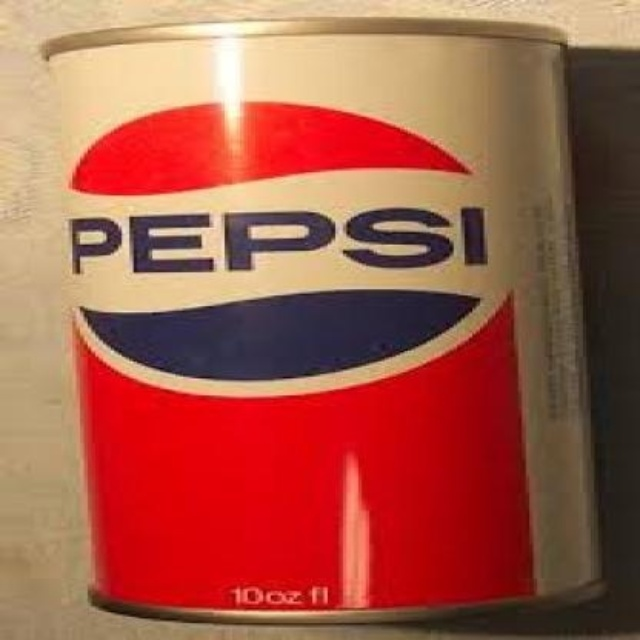trash: (45, 18, 594, 618)
